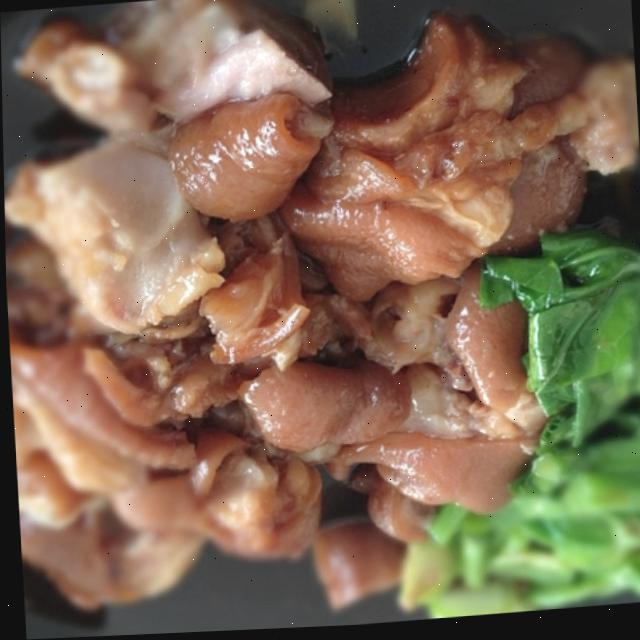猪肉菜式: (61, 23, 604, 638)
